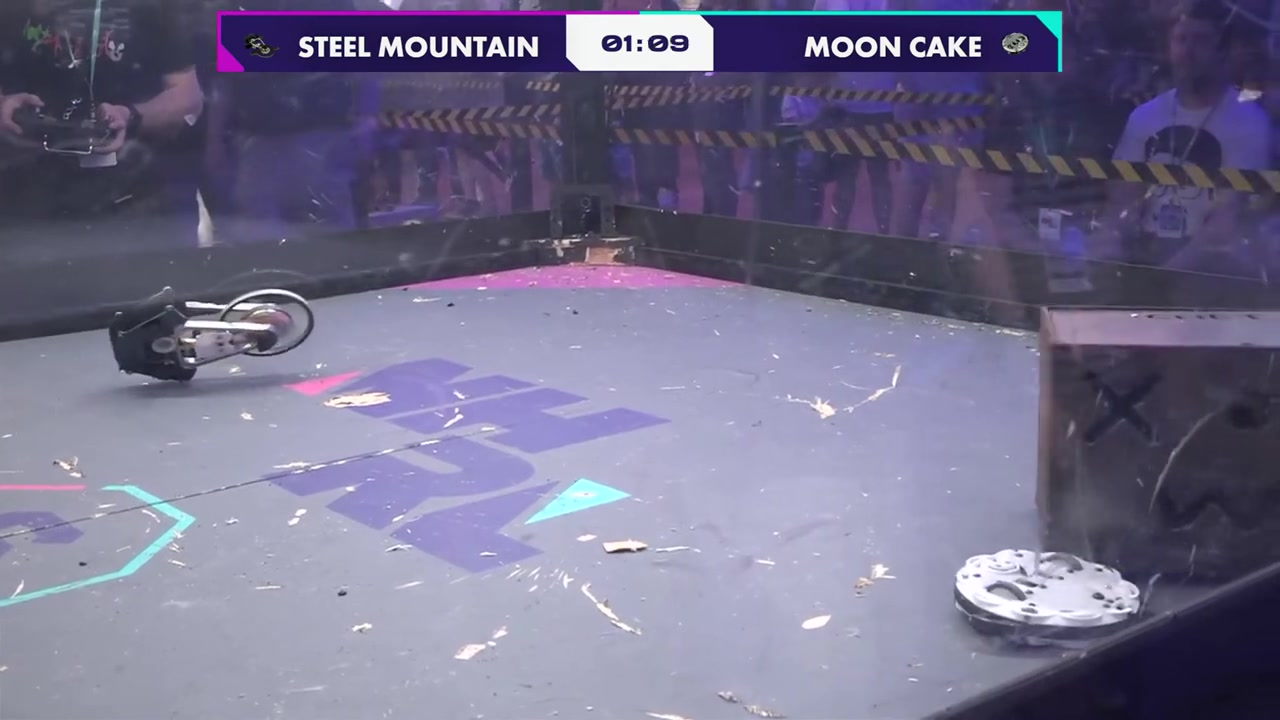combatbot: (108, 268, 319, 384), (955, 547, 1141, 651)
debris: (603, 539, 648, 557)
housebot: (1041, 311, 1280, 585)
